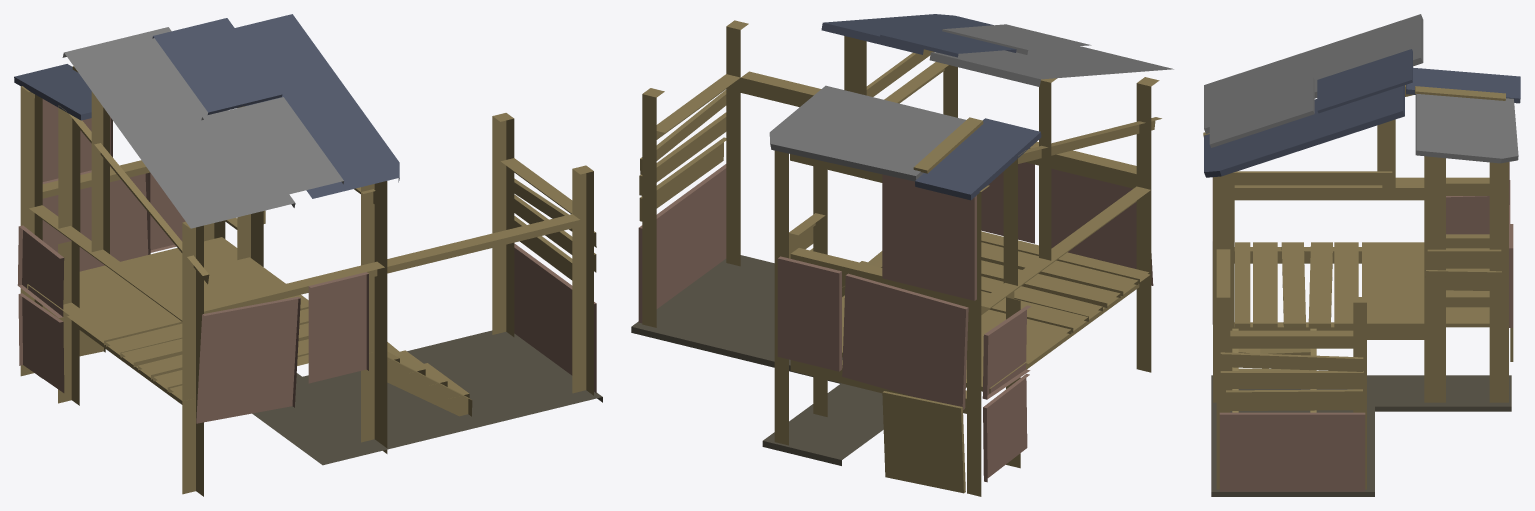
The model's file is tent_01.fbx.
3 renders of one model, left to right at view 1: azimuth 30°, elevation 25°; view 2: azimuth 150°, elevation 25°; view 3: azimuth 270°, elevation 25°, orthographic. The views are drawn at different scales.
Visible parts, largest first — view 1: tent_01; view 2: tent_01; view 3: tent_01.
Boxes of the visible parts, x1,y1,x2,y2 form: tent_01: (14,14,602,496); tent_01: (631,14,1173,496); tent_01: (1203,14,1520,496).
Size of the model in its own units: 15.04 by 12.52 by 11.62.
